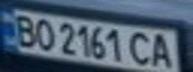1: (103, 27, 127, 62), (72, 23, 93, 57)
2: (54, 20, 75, 56)
6: (87, 24, 106, 61)
A: (148, 30, 178, 70)
B: (9, 11, 39, 47)
C: (127, 29, 157, 66)
O: (30, 17, 57, 52)
